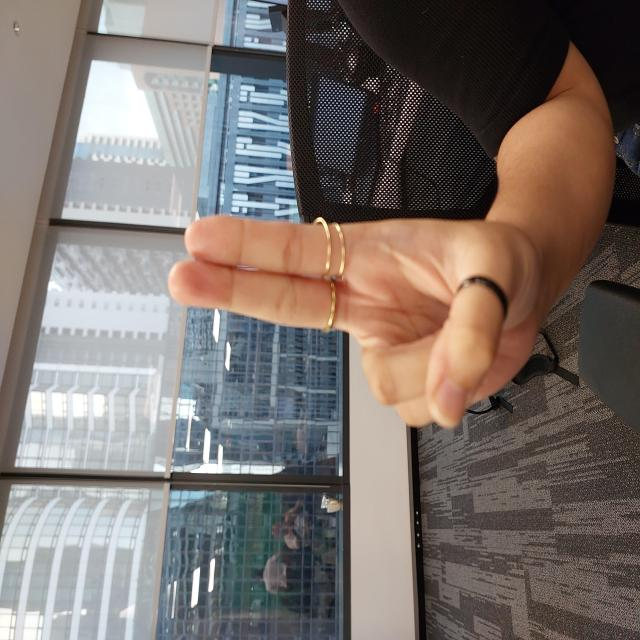U: (210, 167, 430, 543)
